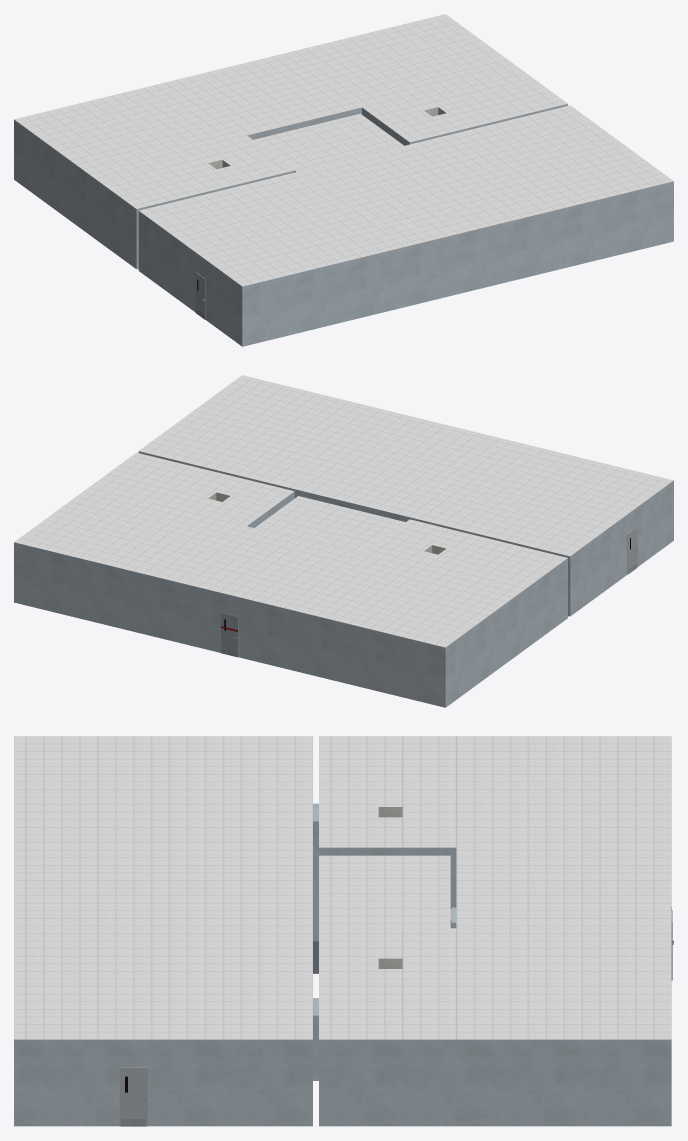
Rendered from checkpoint_1.glb.
3 views of the same model, one above another, from view 1: azimuth 30°, elevation 25°; view 2: azimuth 150°, elevation 25°; view 3: azimuth 270°, elevation 25° (orthographic). The views are drawn at different scales.
Parts seen in each view (by area): view 1: Ceiling_Tile, Wall_Checkpoint; view 2: Ceiling_Tile, Wall_Checkpoint, DoorLeaf_corridors_a; view 3: Ceiling_Tile, Wall_Checkpoint, DoorLeaf_b2_entry.
Boxes of the visible parts, x1=… form: Ceiling_Tile: x1=14, y1=14, x2=673, y2=286; Wall_Checkpoint: x1=14, y1=104, x2=673, y2=346; Ceiling_Tile: x1=14, y1=375, x2=673, y2=647; Wall_Checkpoint: x1=14, y1=451, x2=673, y2=707; DoorLeaf_corridors_a: x1=221, y1=612, x2=238, y2=657; Ceiling_Tile: x1=14, y1=736, x2=671, y2=1039; Wall_Checkpoint: x1=14, y1=803, x2=671, y2=1126; DoorLeaf_b2_entry: x1=119, y1=1067, x2=147, y2=1126.
Bounding box in the file's own units: 24.15 × 3.2 × 22.08.
Materials: 30 (11 with a texture image).
